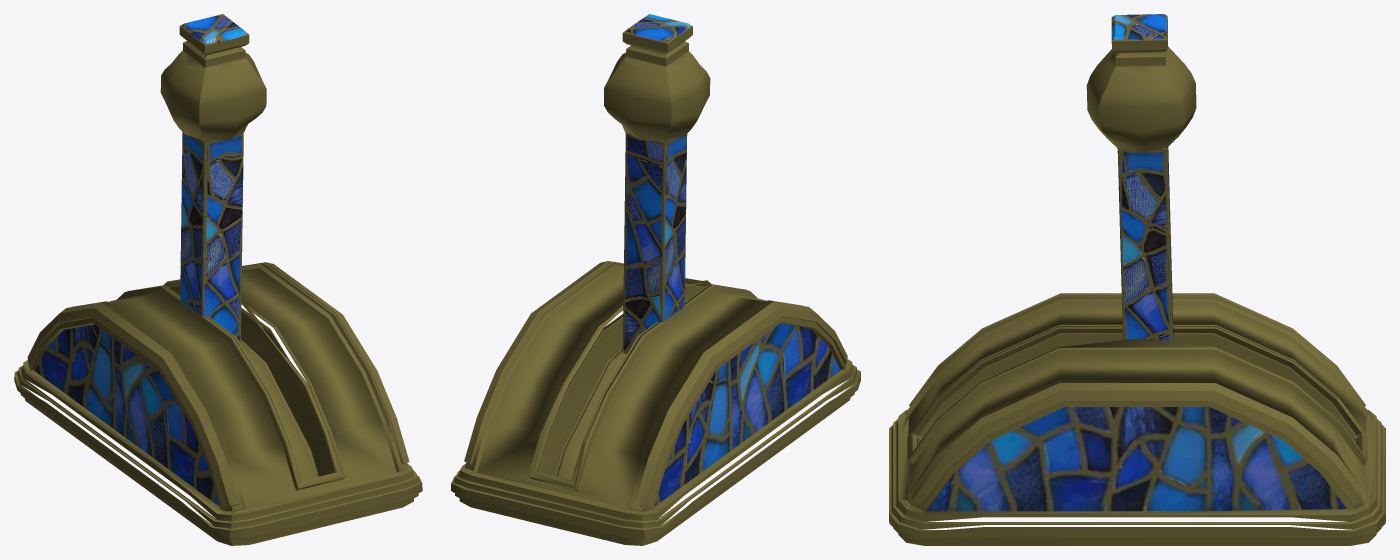
Rendered from leverWholeP1_lowPoly.glb.
3 renders of one model, left to right at view 1: azimuth 30°, elevation 25°; view 2: azimuth 150°, elevation 25°; view 3: azimuth 270°, elevation 25°, orthographic. The views are drawn at different scales.
Parts seen in each view (by area): view 1: Mesh_1.001; view 2: Mesh_1.001; view 3: Mesh_1.001.
Part boxes in pixels (x1,y1,x2,y2): Mesh_1.001: (14, 14, 422, 545); Mesh_1.001: (451, 14, 860, 545); Mesh_1.001: (889, 14, 1385, 545).
Bounding box in the file's own units: 0.4998 × 0.9669 × 0.9278.
Materials: 2 (2 with a texture image).
